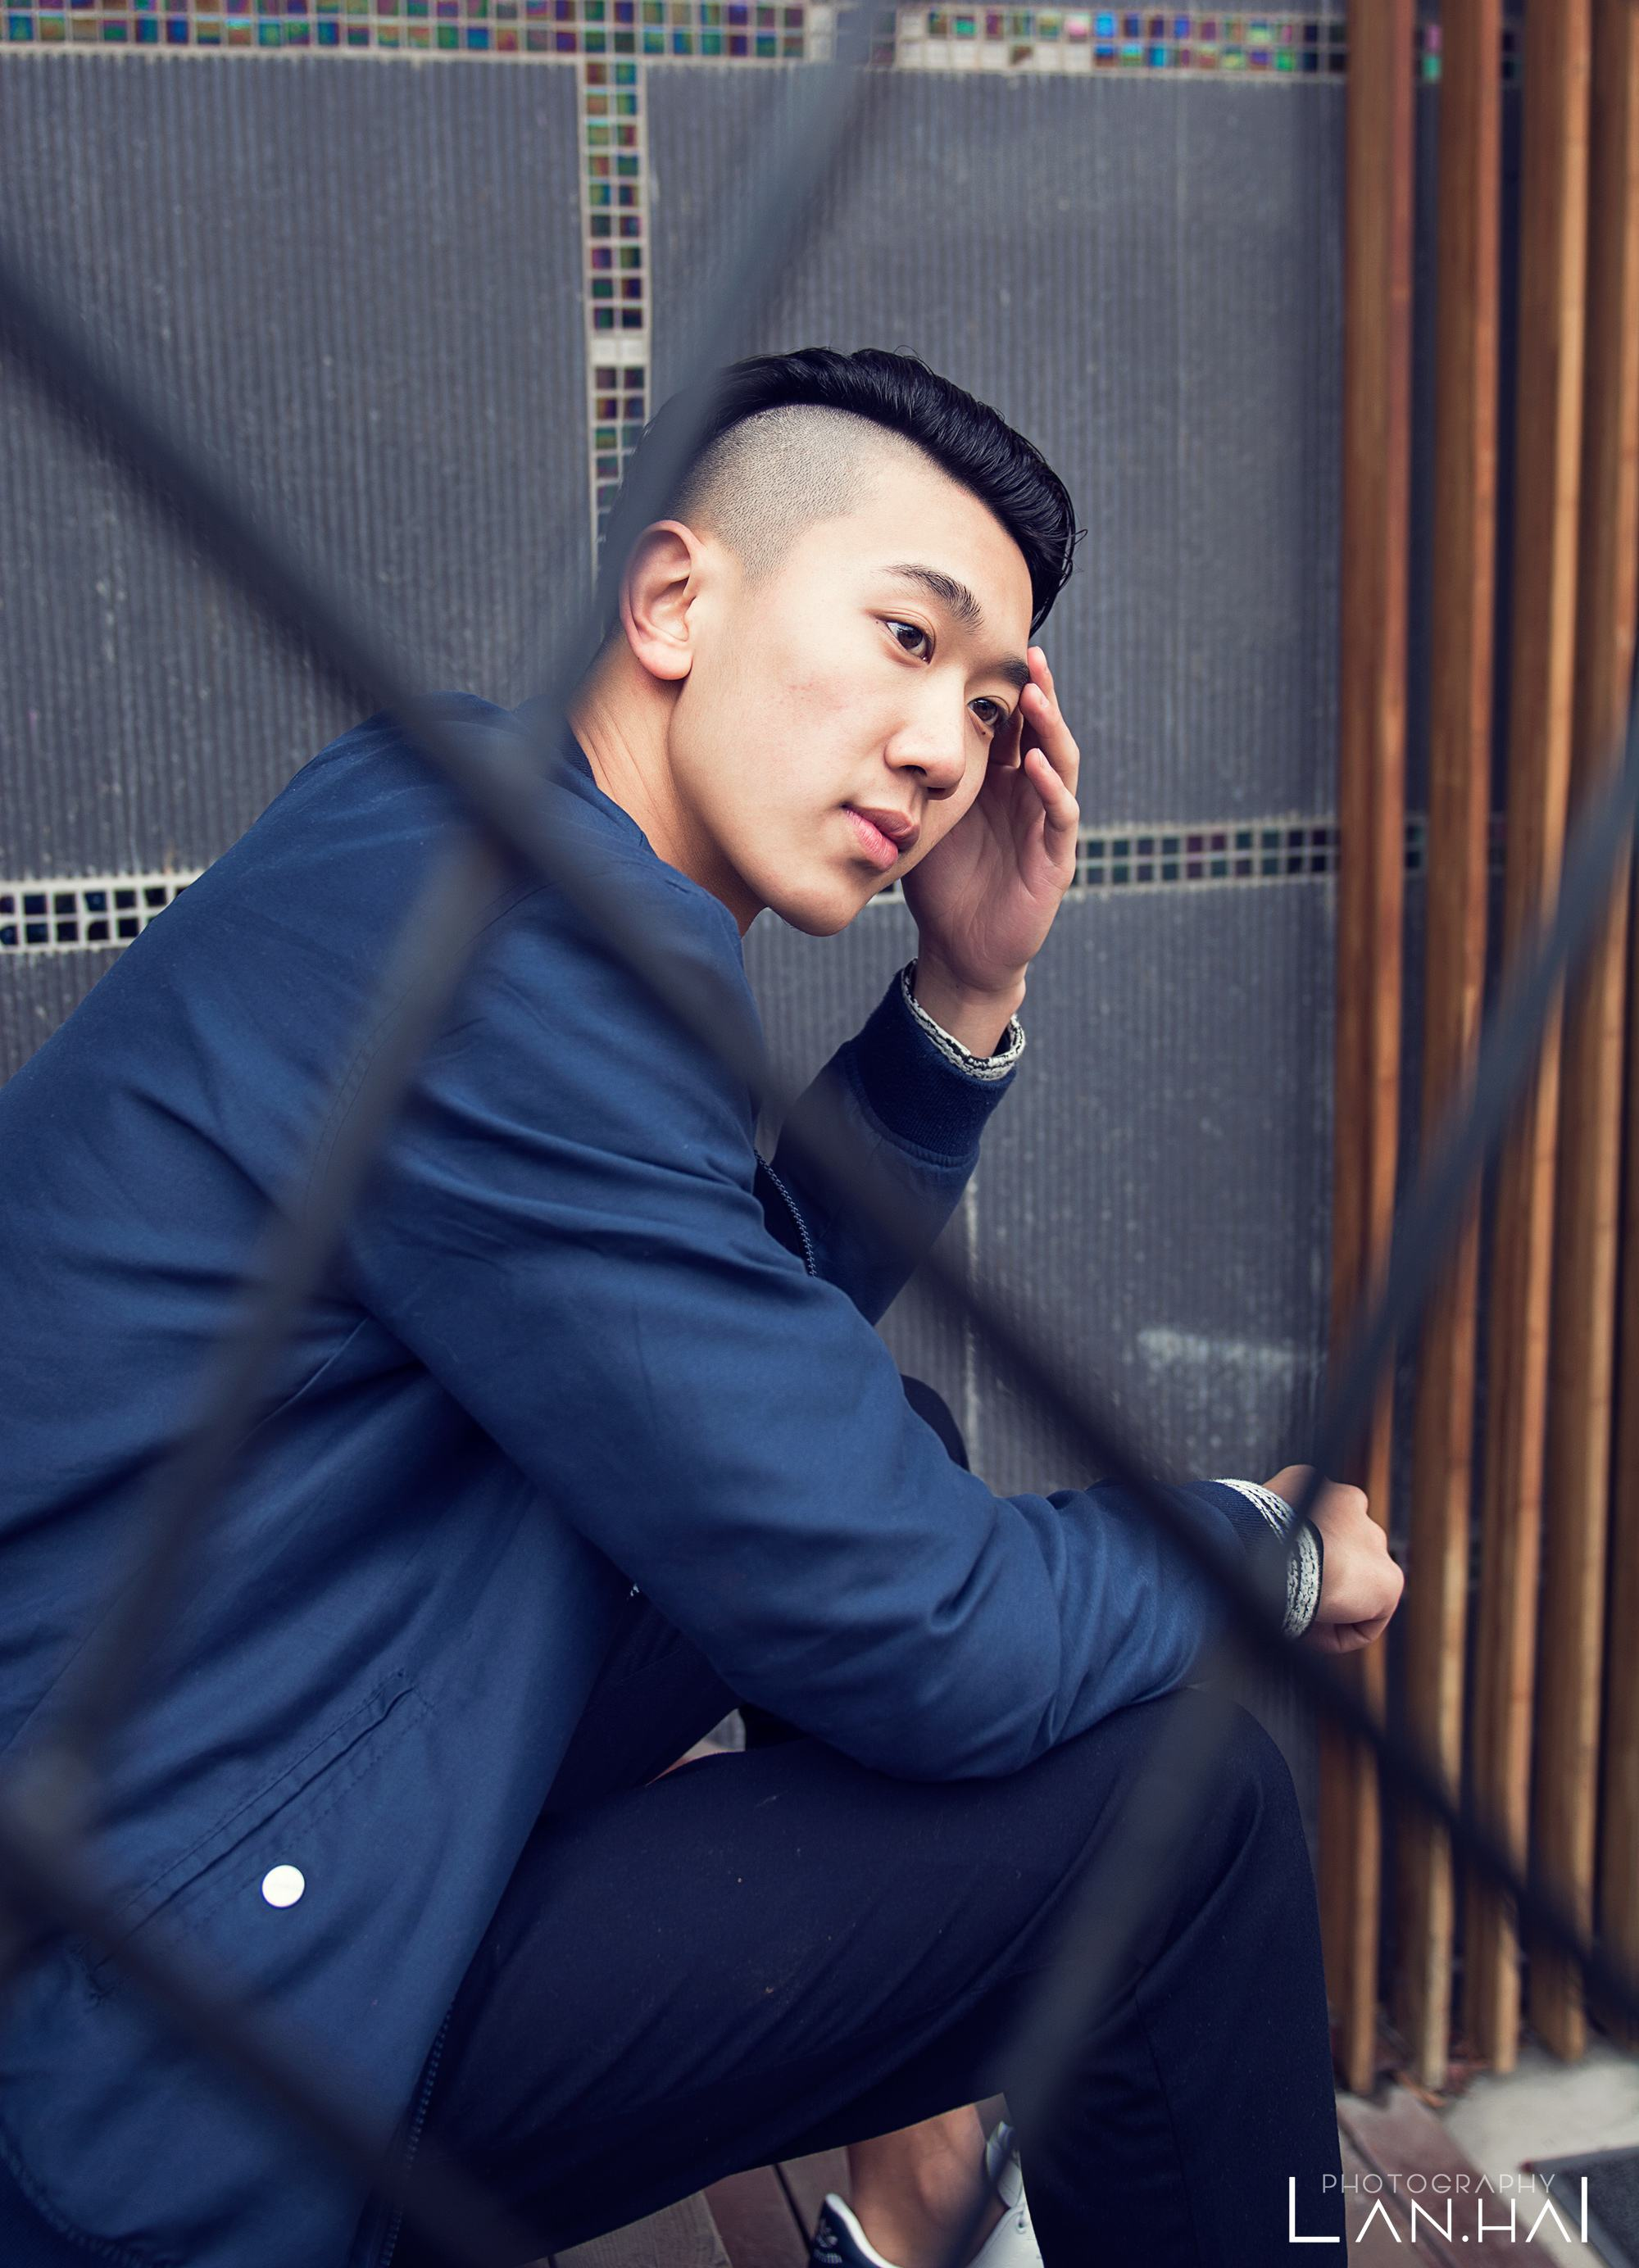person: (192, 297, 1298, 2053)
